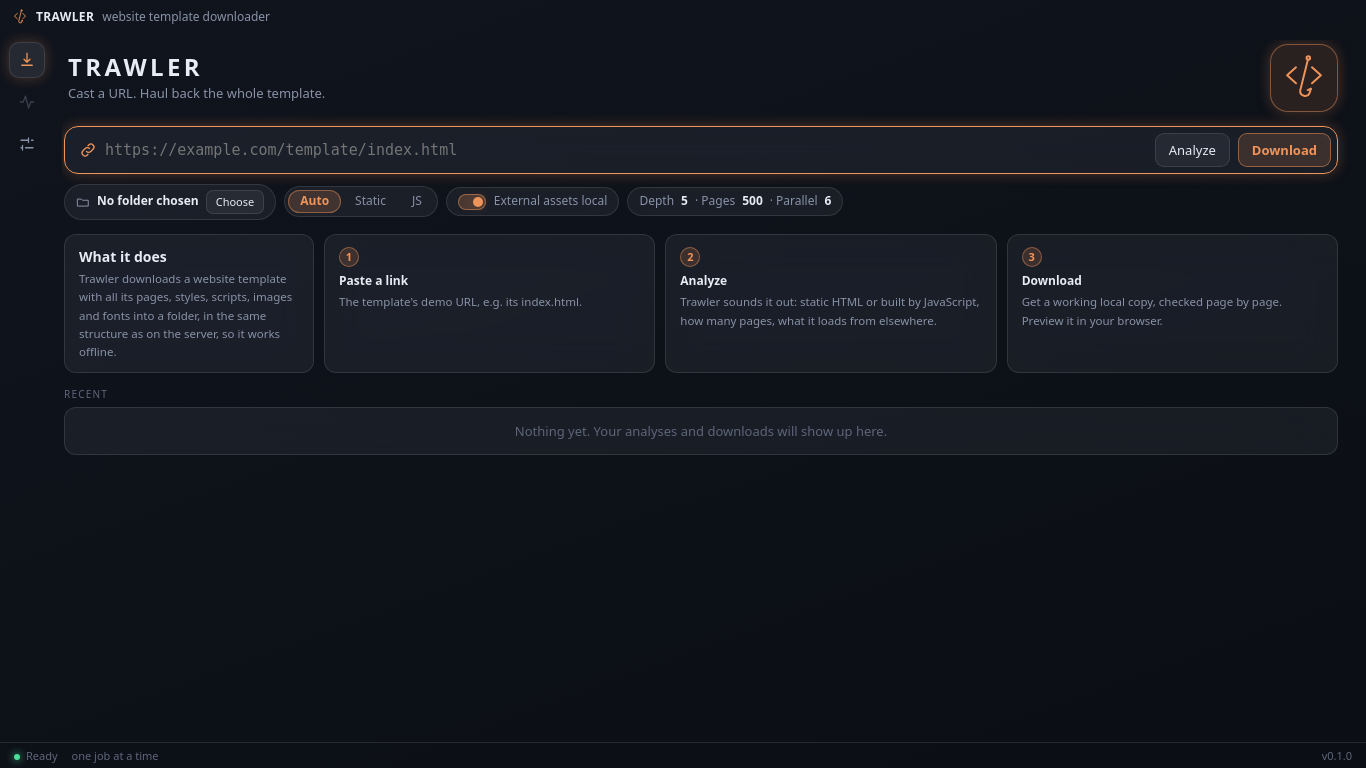
Scenario: Start screen › shows an error for an empty URL and starts nothing
Click the button "Analyze". click: (1192, 150)
box: [1155,133,1230,167]
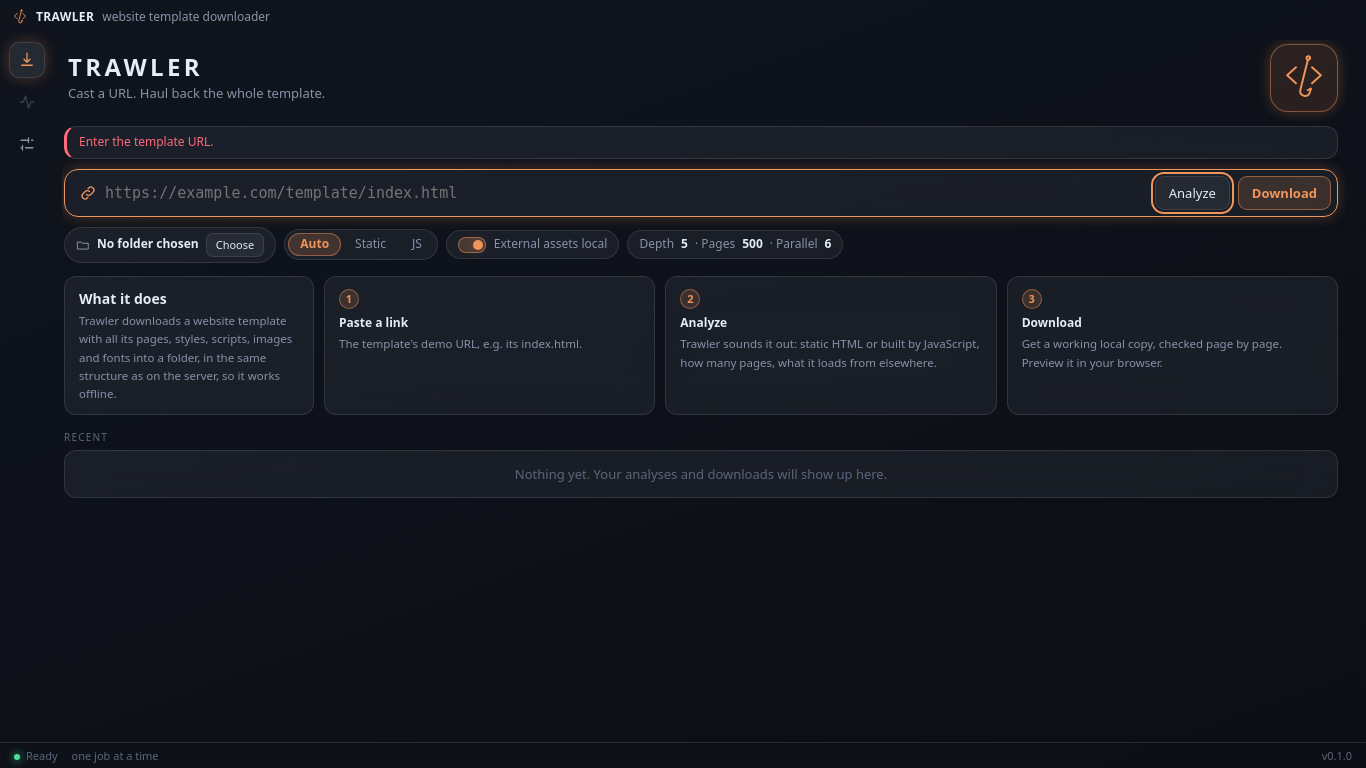
Now the message reads "Enter the template URL.", box [79,133,213,150]
